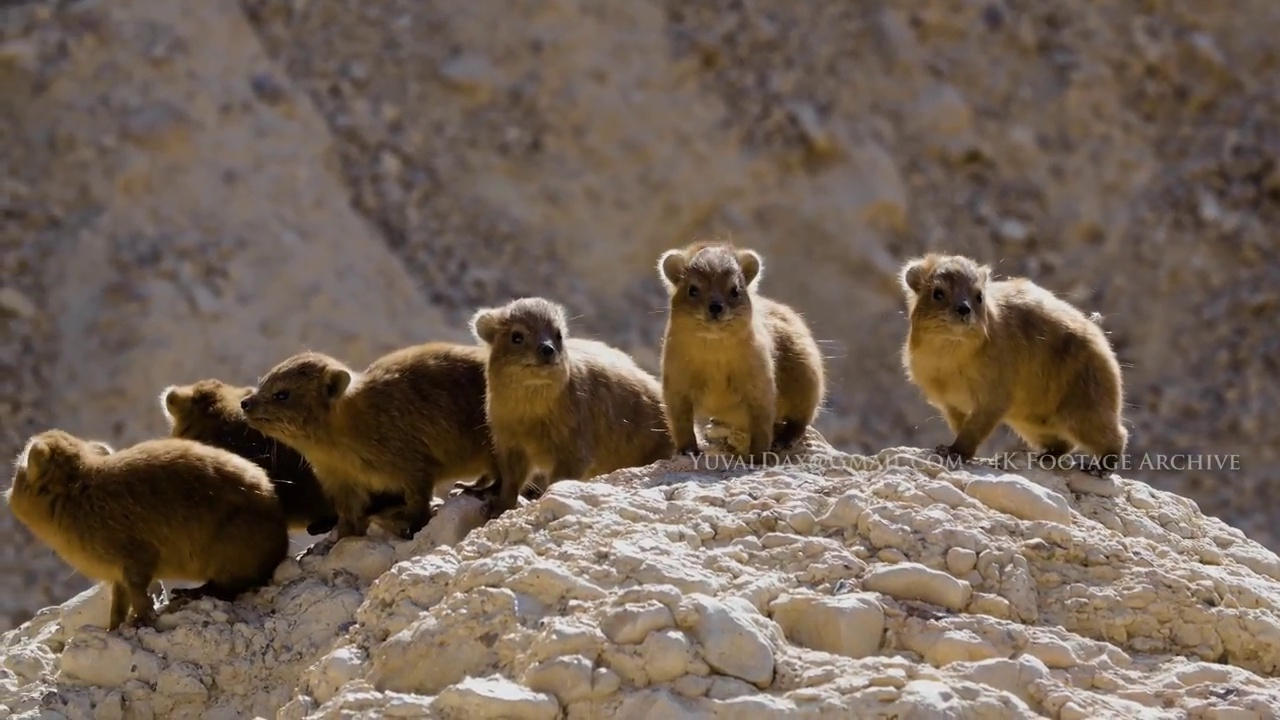Rock Hyrex: (10, 427, 296, 622), (894, 254, 1131, 482), (243, 348, 520, 534), (470, 295, 679, 499), (654, 241, 828, 476), (160, 383, 349, 540)
